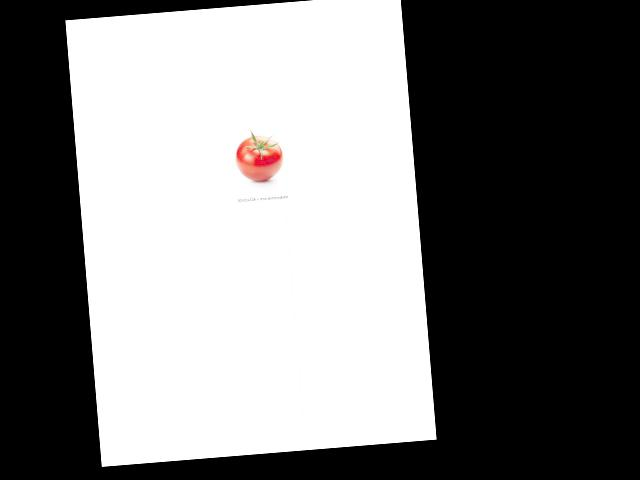tomato: (234, 134, 283, 183)
